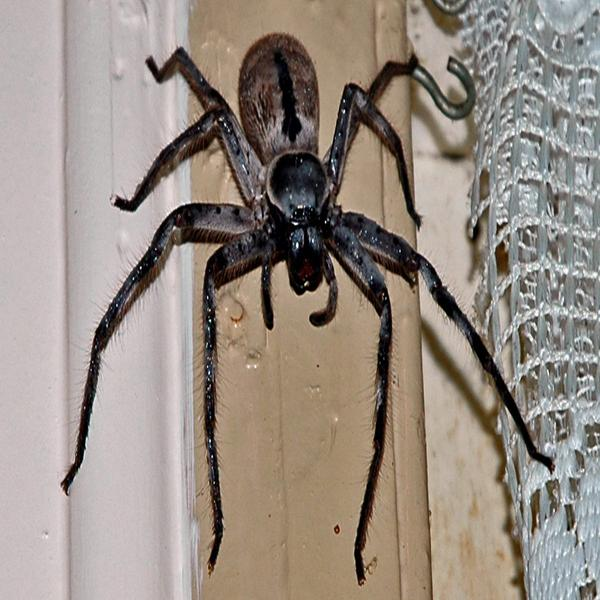Huntsman Spider: (65, 31, 557, 575)
